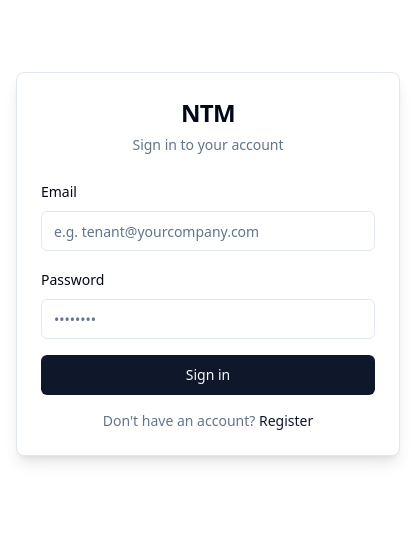
Test: LoginPage — register mode role preview › defaults to Brand Manager for unknown prefix
Click the button "Register": (286, 421) [259,411,313,431]
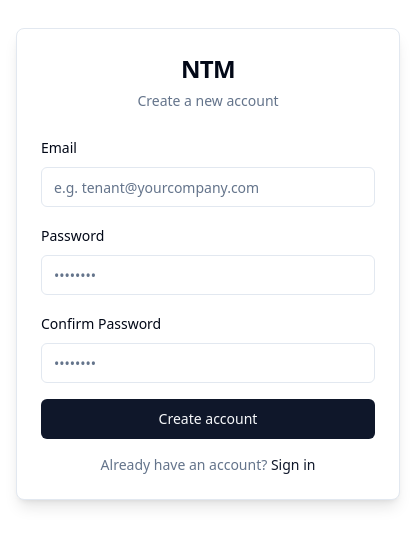
In the field labelled "Email": (208, 187) [41,167,375,207], type "randomuser@startup.io"
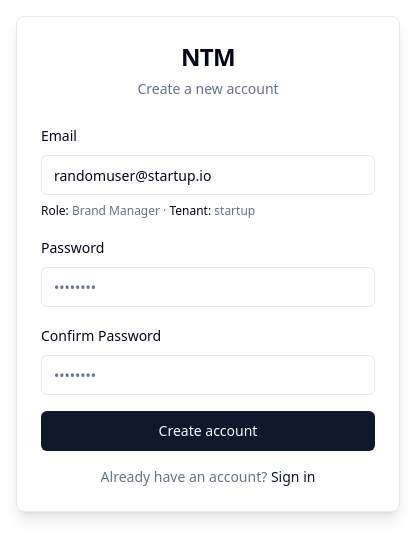
Now the text "Role: Brand Manager · Tenant: startup" is shown, box [41,202,255,219]
